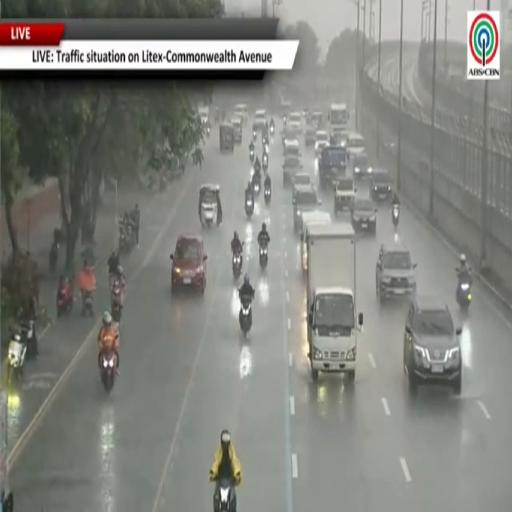bus: (328, 104, 348, 134)
car: (403, 296, 462, 394), (376, 244, 416, 302), (170, 235, 207, 293), (301, 211, 331, 273), (293, 185, 321, 232), (351, 198, 377, 234), (334, 175, 356, 215), (370, 169, 392, 201), (283, 155, 302, 186), (351, 153, 372, 179), (292, 172, 311, 200), (346, 133, 365, 158), (315, 131, 329, 156), (283, 138, 300, 157), (230, 117, 242, 143), (253, 109, 266, 132), (234, 104, 248, 123), (305, 123, 316, 146), (311, 111, 323, 129), (288, 121, 302, 135), (289, 111, 302, 123)
motorcycle: (8, 320, 36, 383), (7, 334, 27, 385), (215, 479, 235, 511), (101, 351, 116, 392), (57, 284, 73, 317), (239, 296, 252, 336), (456, 277, 471, 310), (111, 280, 122, 323), (119, 224, 134, 253), (49, 242, 59, 273), (82, 291, 94, 316), (232, 252, 243, 279), (259, 242, 267, 268), (245, 198, 254, 218), (392, 205, 399, 228), (262, 134, 269, 152), (264, 187, 271, 204), (262, 154, 268, 172), (254, 181, 260, 196), (264, 142, 269, 154), (250, 150, 254, 163), (206, 126, 210, 137), (283, 115, 287, 126), (270, 124, 274, 135), (253, 132, 257, 141)
truck: (307, 223, 363, 381), (318, 146, 346, 189)
